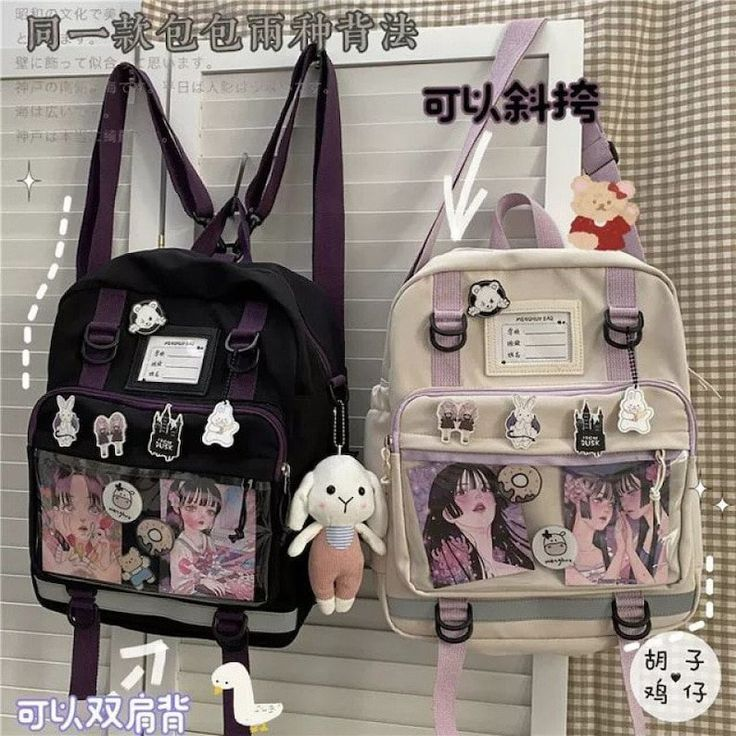nylon: (28, 17, 704, 736)
